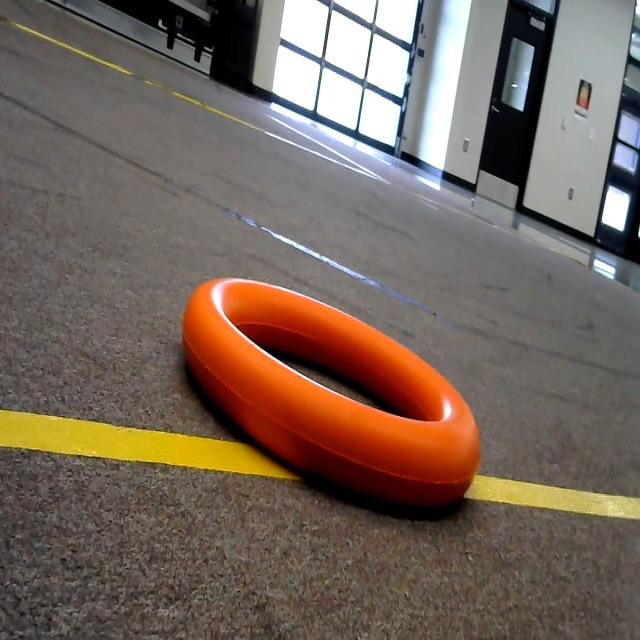note: (174, 238, 508, 531)
